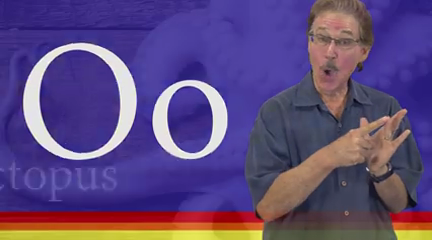O: (312, 106, 414, 180)
